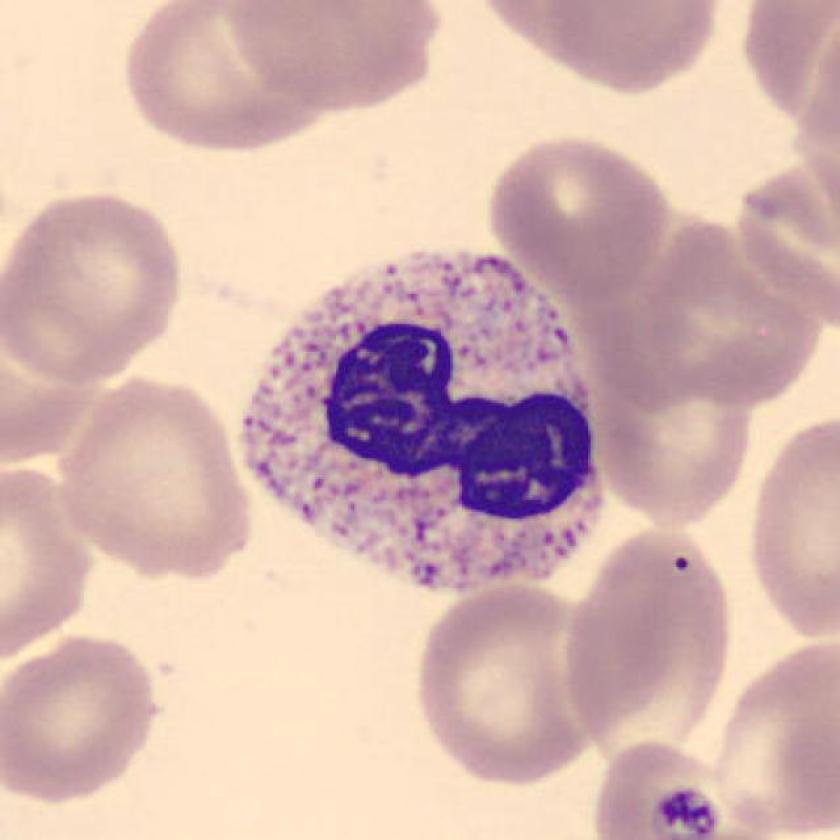neutrophil: (242, 256, 608, 598)
